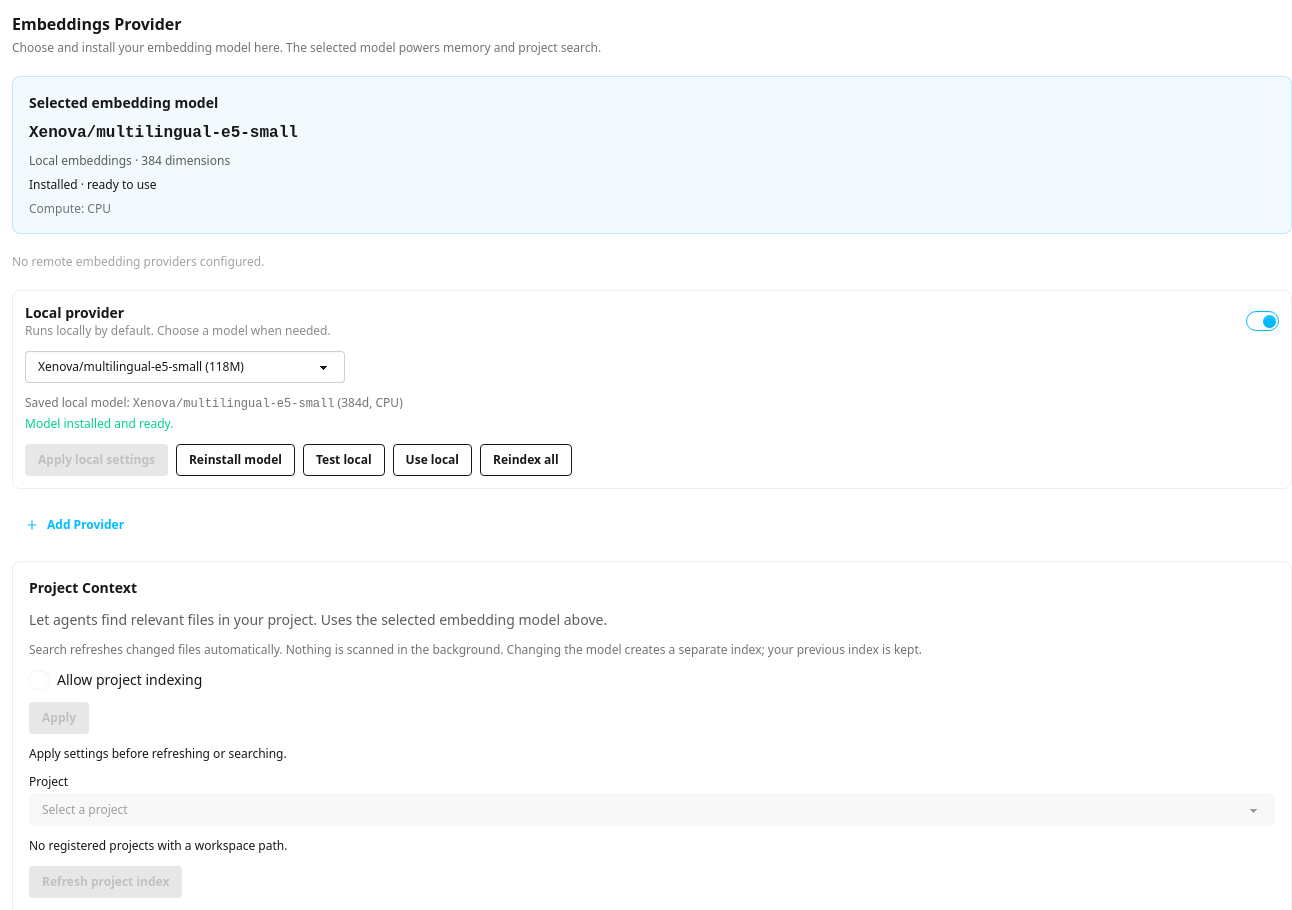
Test: EmbeddingsPanel › can run a local embedding health test
Click the button with test id "embedding-local-test-btn" at (344, 460), box top-left (303, 444), bottom-right (385, 476)
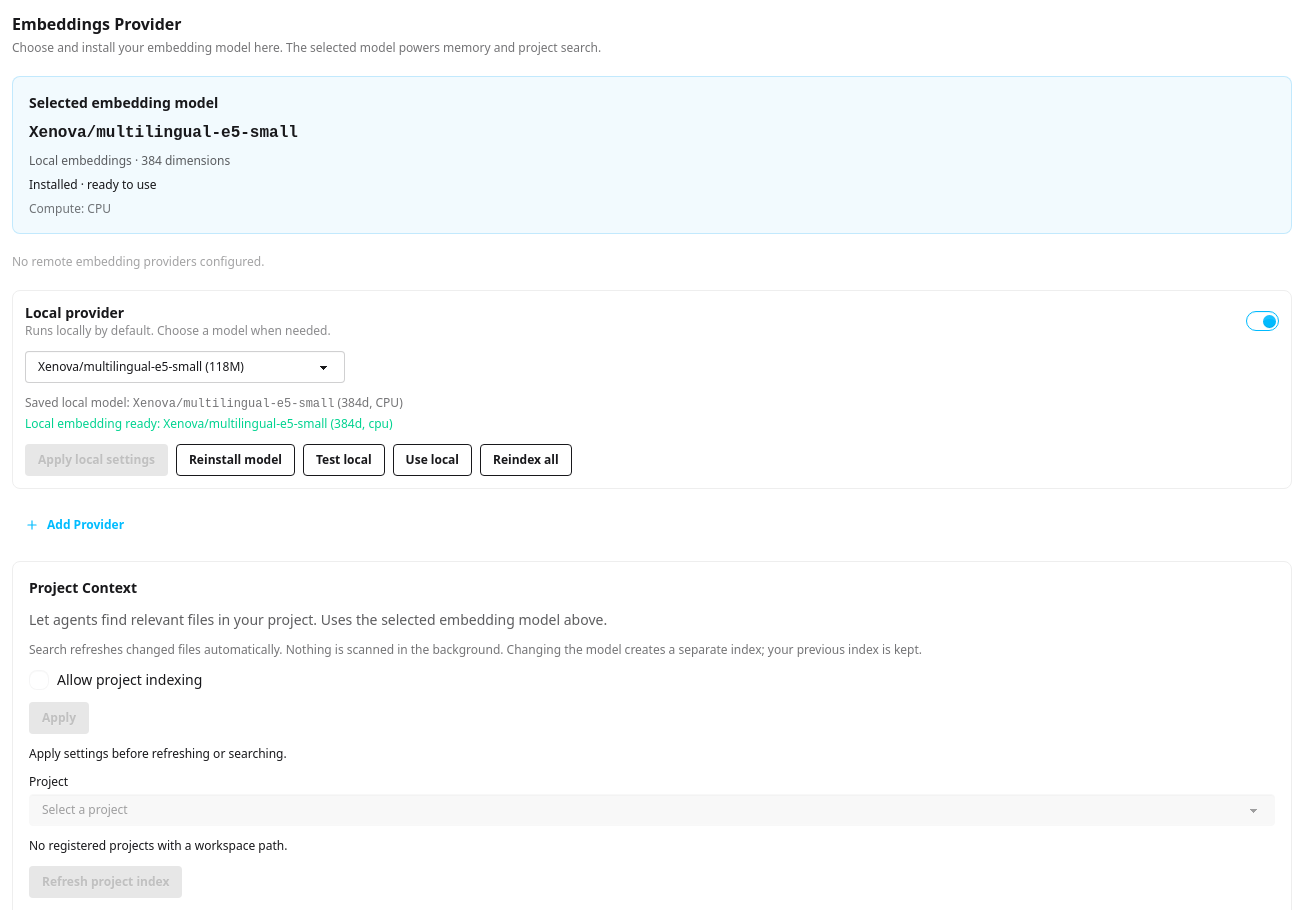
Now the text "Local embedding ready:" is shown, box top-left (25, 415), bottom-right (393, 432)
